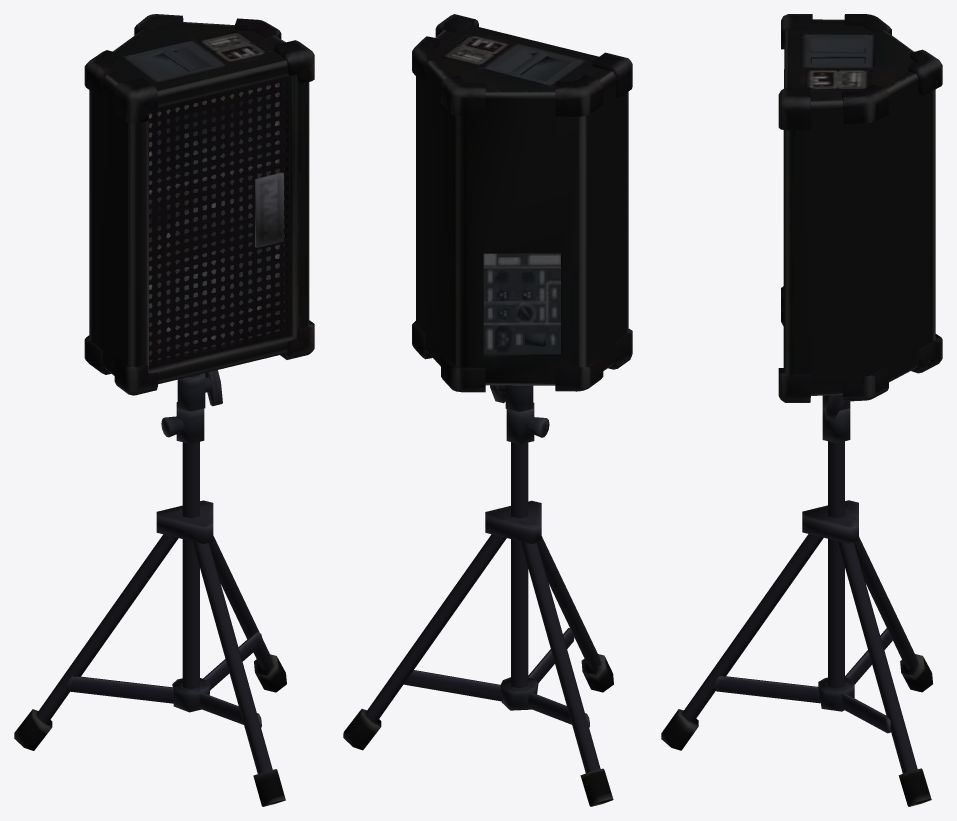
The picture shows the model from 3 angles, left to right: view 1: azimuth 30°, elevation 25°; view 2: azimuth 150°, elevation 25°; view 3: azimuth 270°, elevation 25°; orthographic projection.
Bounding box in the file's own units: 8.4 × 20.62 × 7.57.
Materials: 2 (2 with a texture image).
